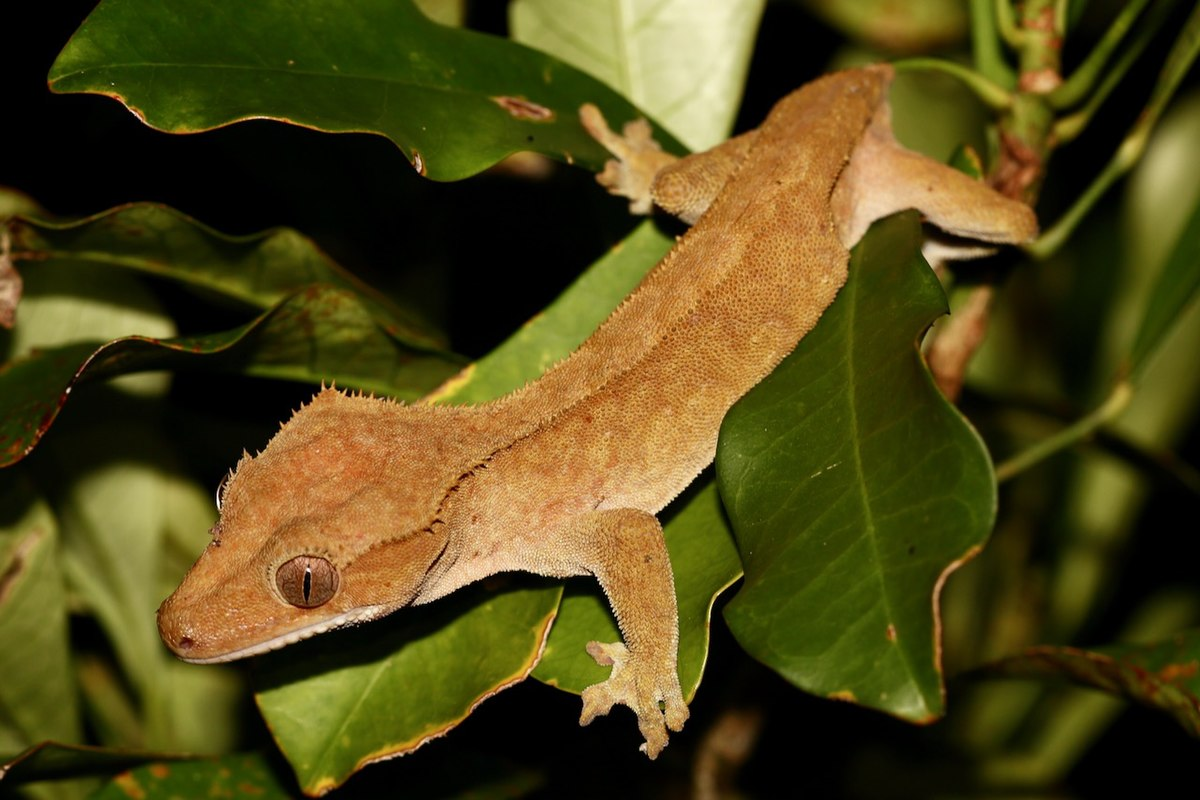analyzer_lateral: (450, 182, 847, 576)
